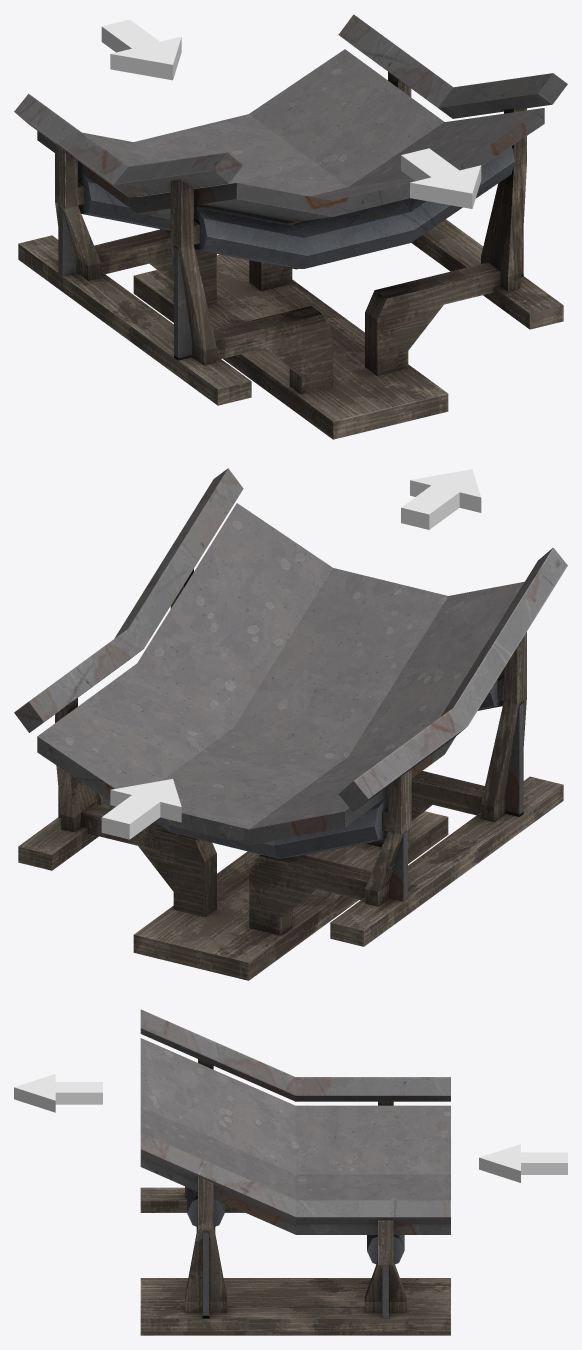
Rendered from ConveyorLedge.glb.
The picture shows the model from 3 angles, top to bottom: view 1: azimuth 30°, elevation 25°; view 2: azimuth 150°, elevation 25°; view 3: azimuth 270°, elevation 25°; orthographic projection. The views are drawn at different scales.
Parts seen in each view (by area): view 1: ConveyorLedge, ghostarrow (1), ghostarrow; view 2: ConveyorLedge, ghostarrow (1), ghostarrow; view 3: ConveyorLedge, ghostarrow (1), ghostarrow.
Part boxes in pixels (box(x1,y1,x2,y2)): ConveyorLedge: box(14, 14, 567, 439); ghostarrow (1): box(101, 19, 181, 80); ghostarrow: box(401, 148, 481, 208); ConveyorLedge: box(14, 468, 567, 980); ghostarrow (1): box(101, 779, 181, 839); ghostarrow: box(401, 469, 481, 529); ConveyorLedge: box(140, 1009, 450, 1335); ghostarrow (1): box(479, 1144, 567, 1182); ghostarrow: box(14, 1074, 102, 1112).
Size of the model in its own units: 1.02 by 0.8649 by 1.79.
Materials: 3 (2 with a texture image).
